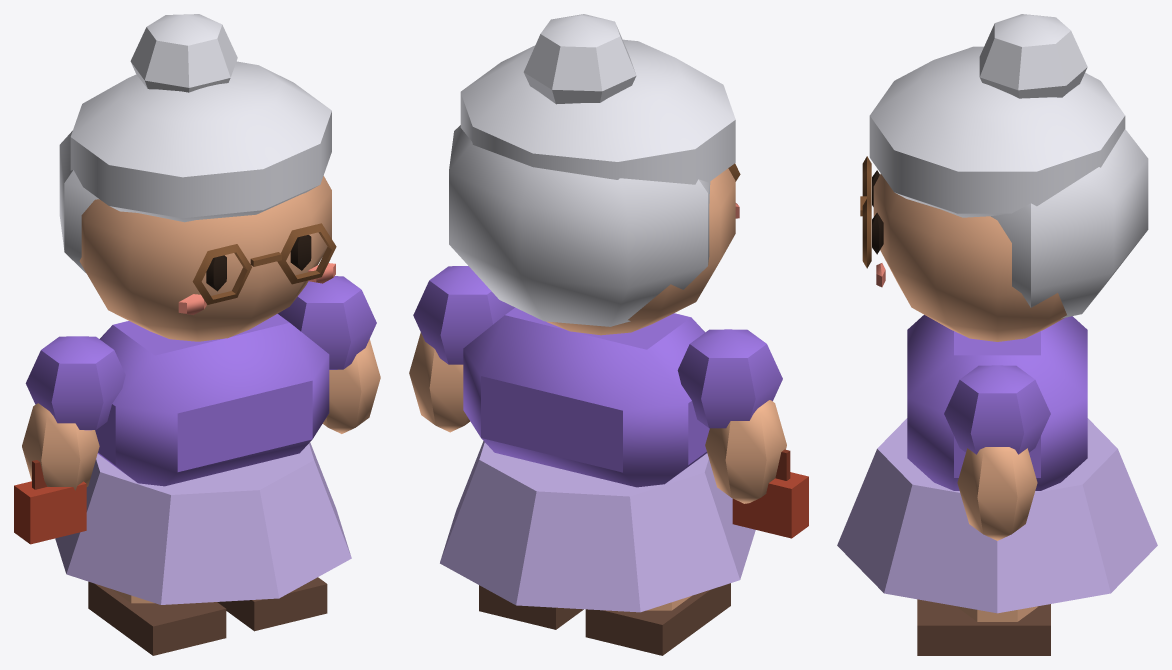
The model's file is guest_03.glb.
The picture shows the model from 3 angles, left to right: view 1: azimuth 30°, elevation 25°; view 2: azimuth 150°, elevation 25°; view 3: azimuth 270°, elevation 25°; orthographic projection. The views are drawn at different scales.
Visible parts, largest first — view 1: guest_03; view 2: guest_03; view 3: guest_03.
Boxes of the visible parts, x1,y1,x2,y2 form: guest_03: [14, 14, 380, 655]; guest_03: [409, 14, 808, 655]; guest_03: [837, 14, 1157, 655].
Size of the model in its own units: 0.3002 by 0.4679 by 0.228.
